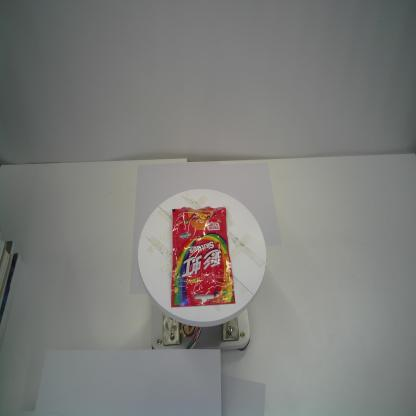Candy: (169, 204, 236, 309)
